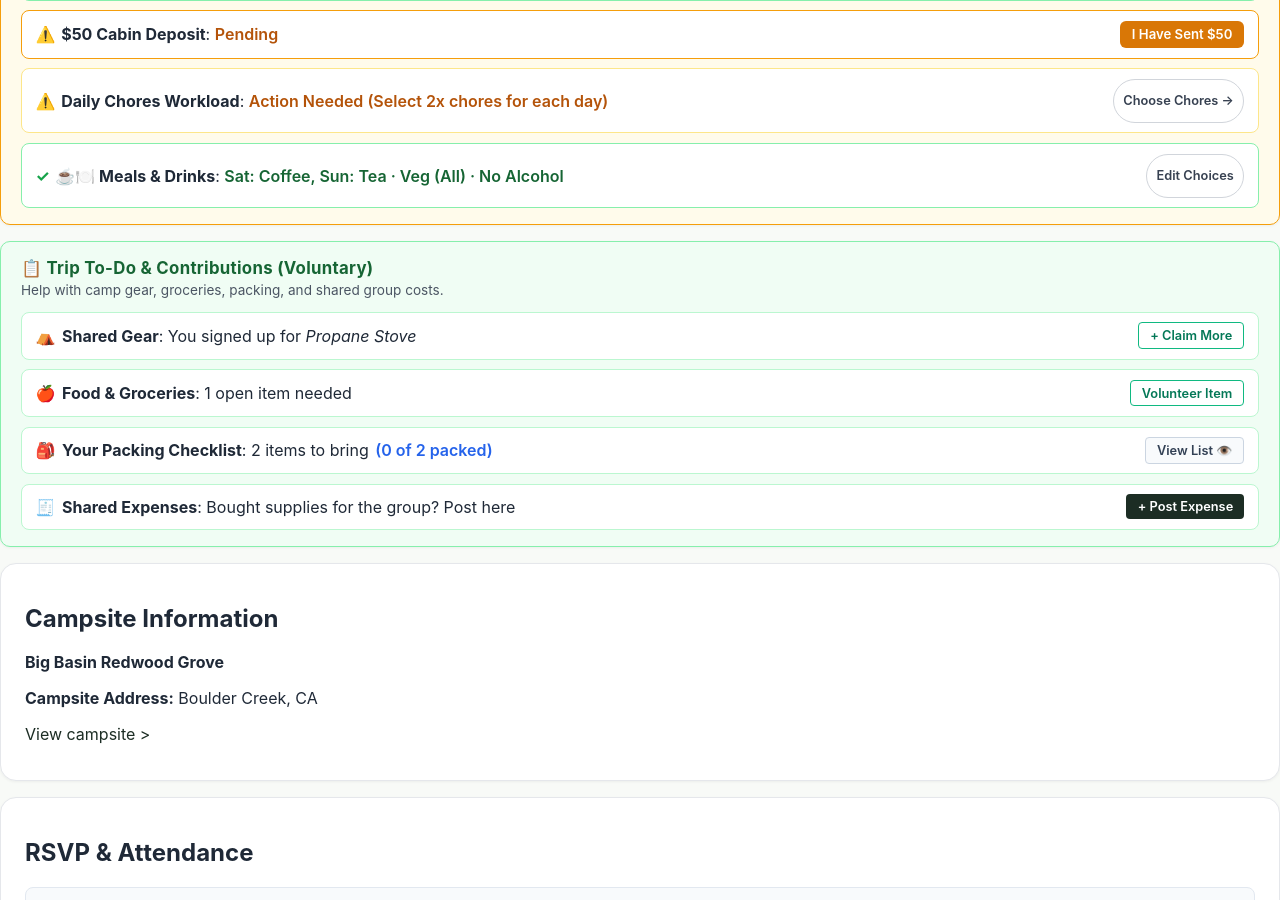
Task 5: Frontend 'My Trip Hub' Dashboard Refactor › closes personal packing checklist modal on Escape key press
(page scrolled)
Click the button "View List 👁️": (1195, 450) [1145, 437, 1244, 464]
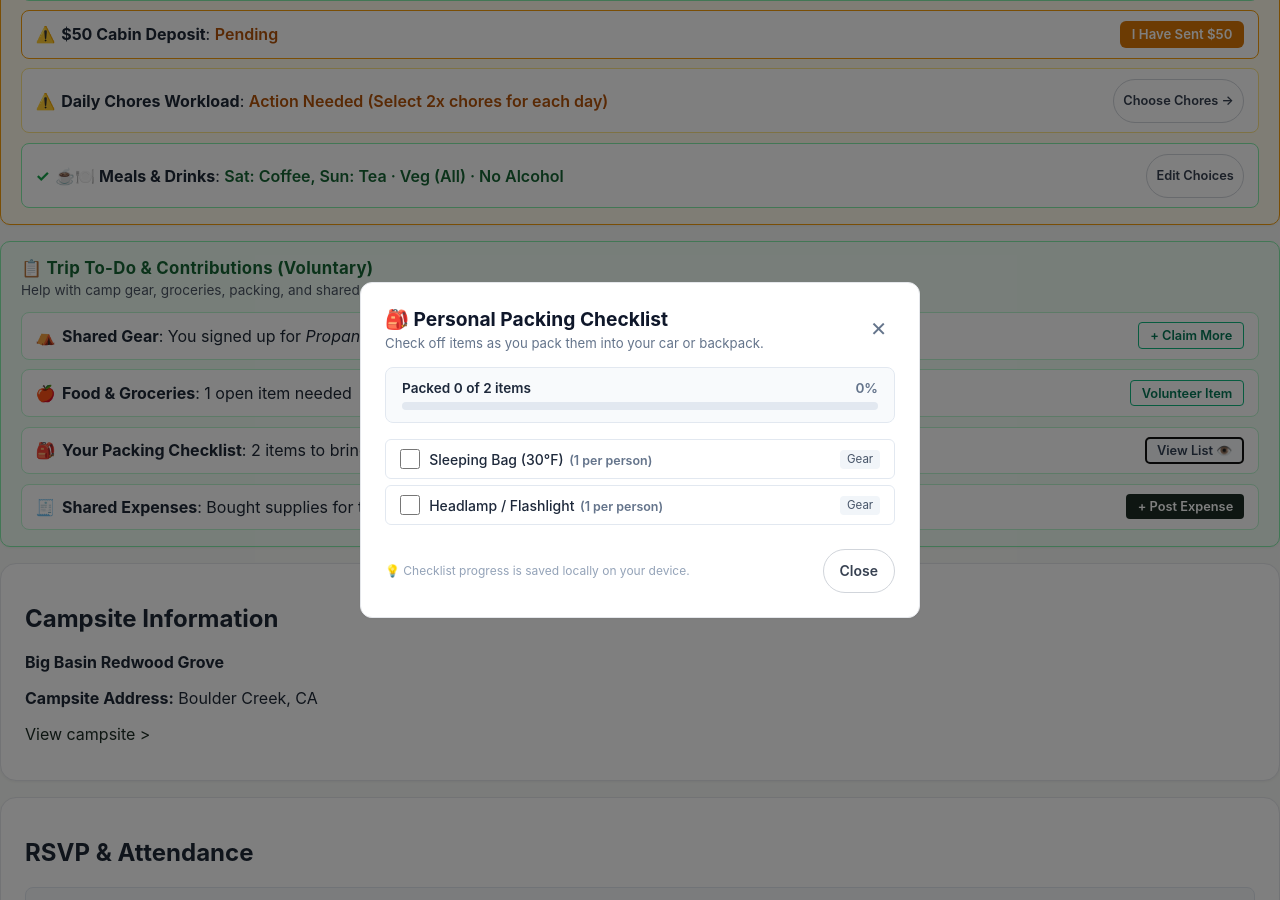
Now the dialog is shown
// Press Escape
Press Escape
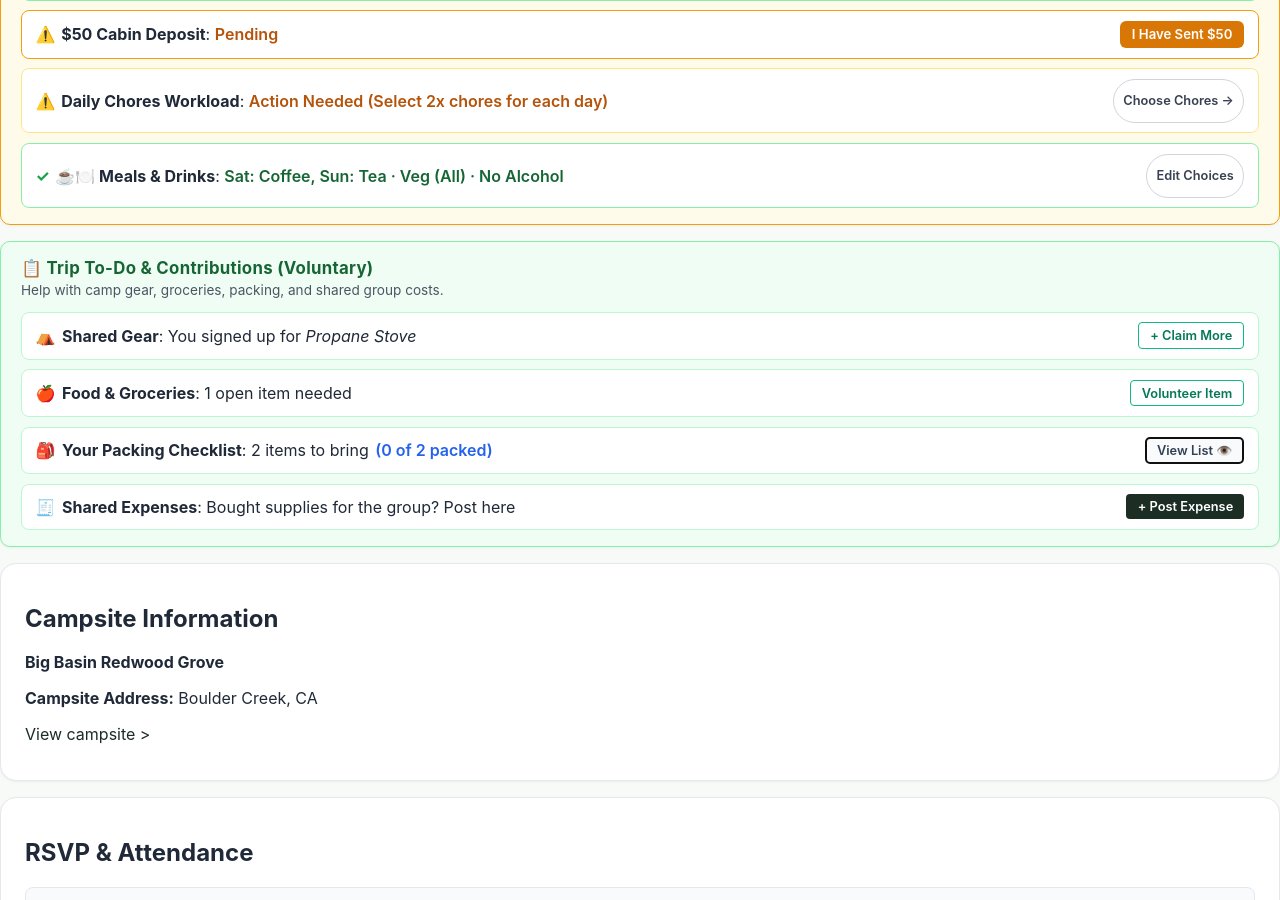
Now the dialog is gone
